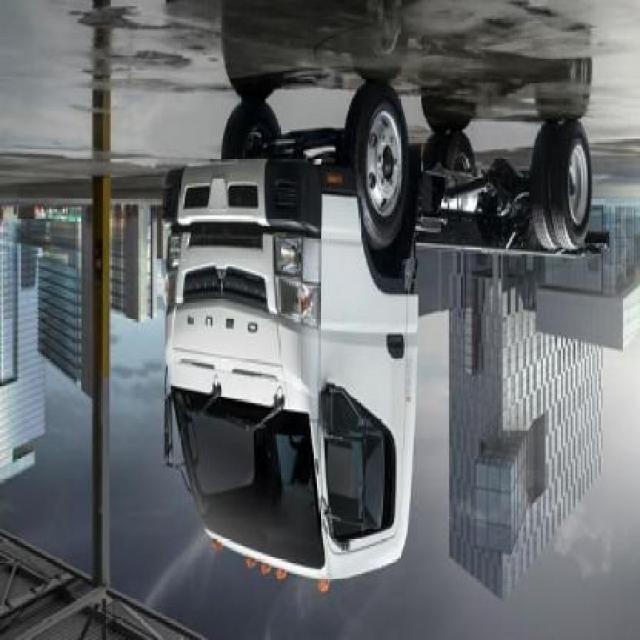truck: (164, 93, 610, 600)
